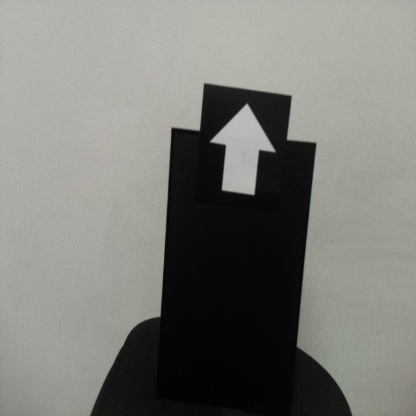id_1: (202, 87, 290, 215)
